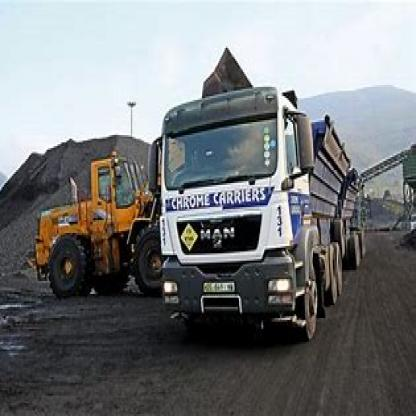dump_truck: (148, 61, 395, 351)
